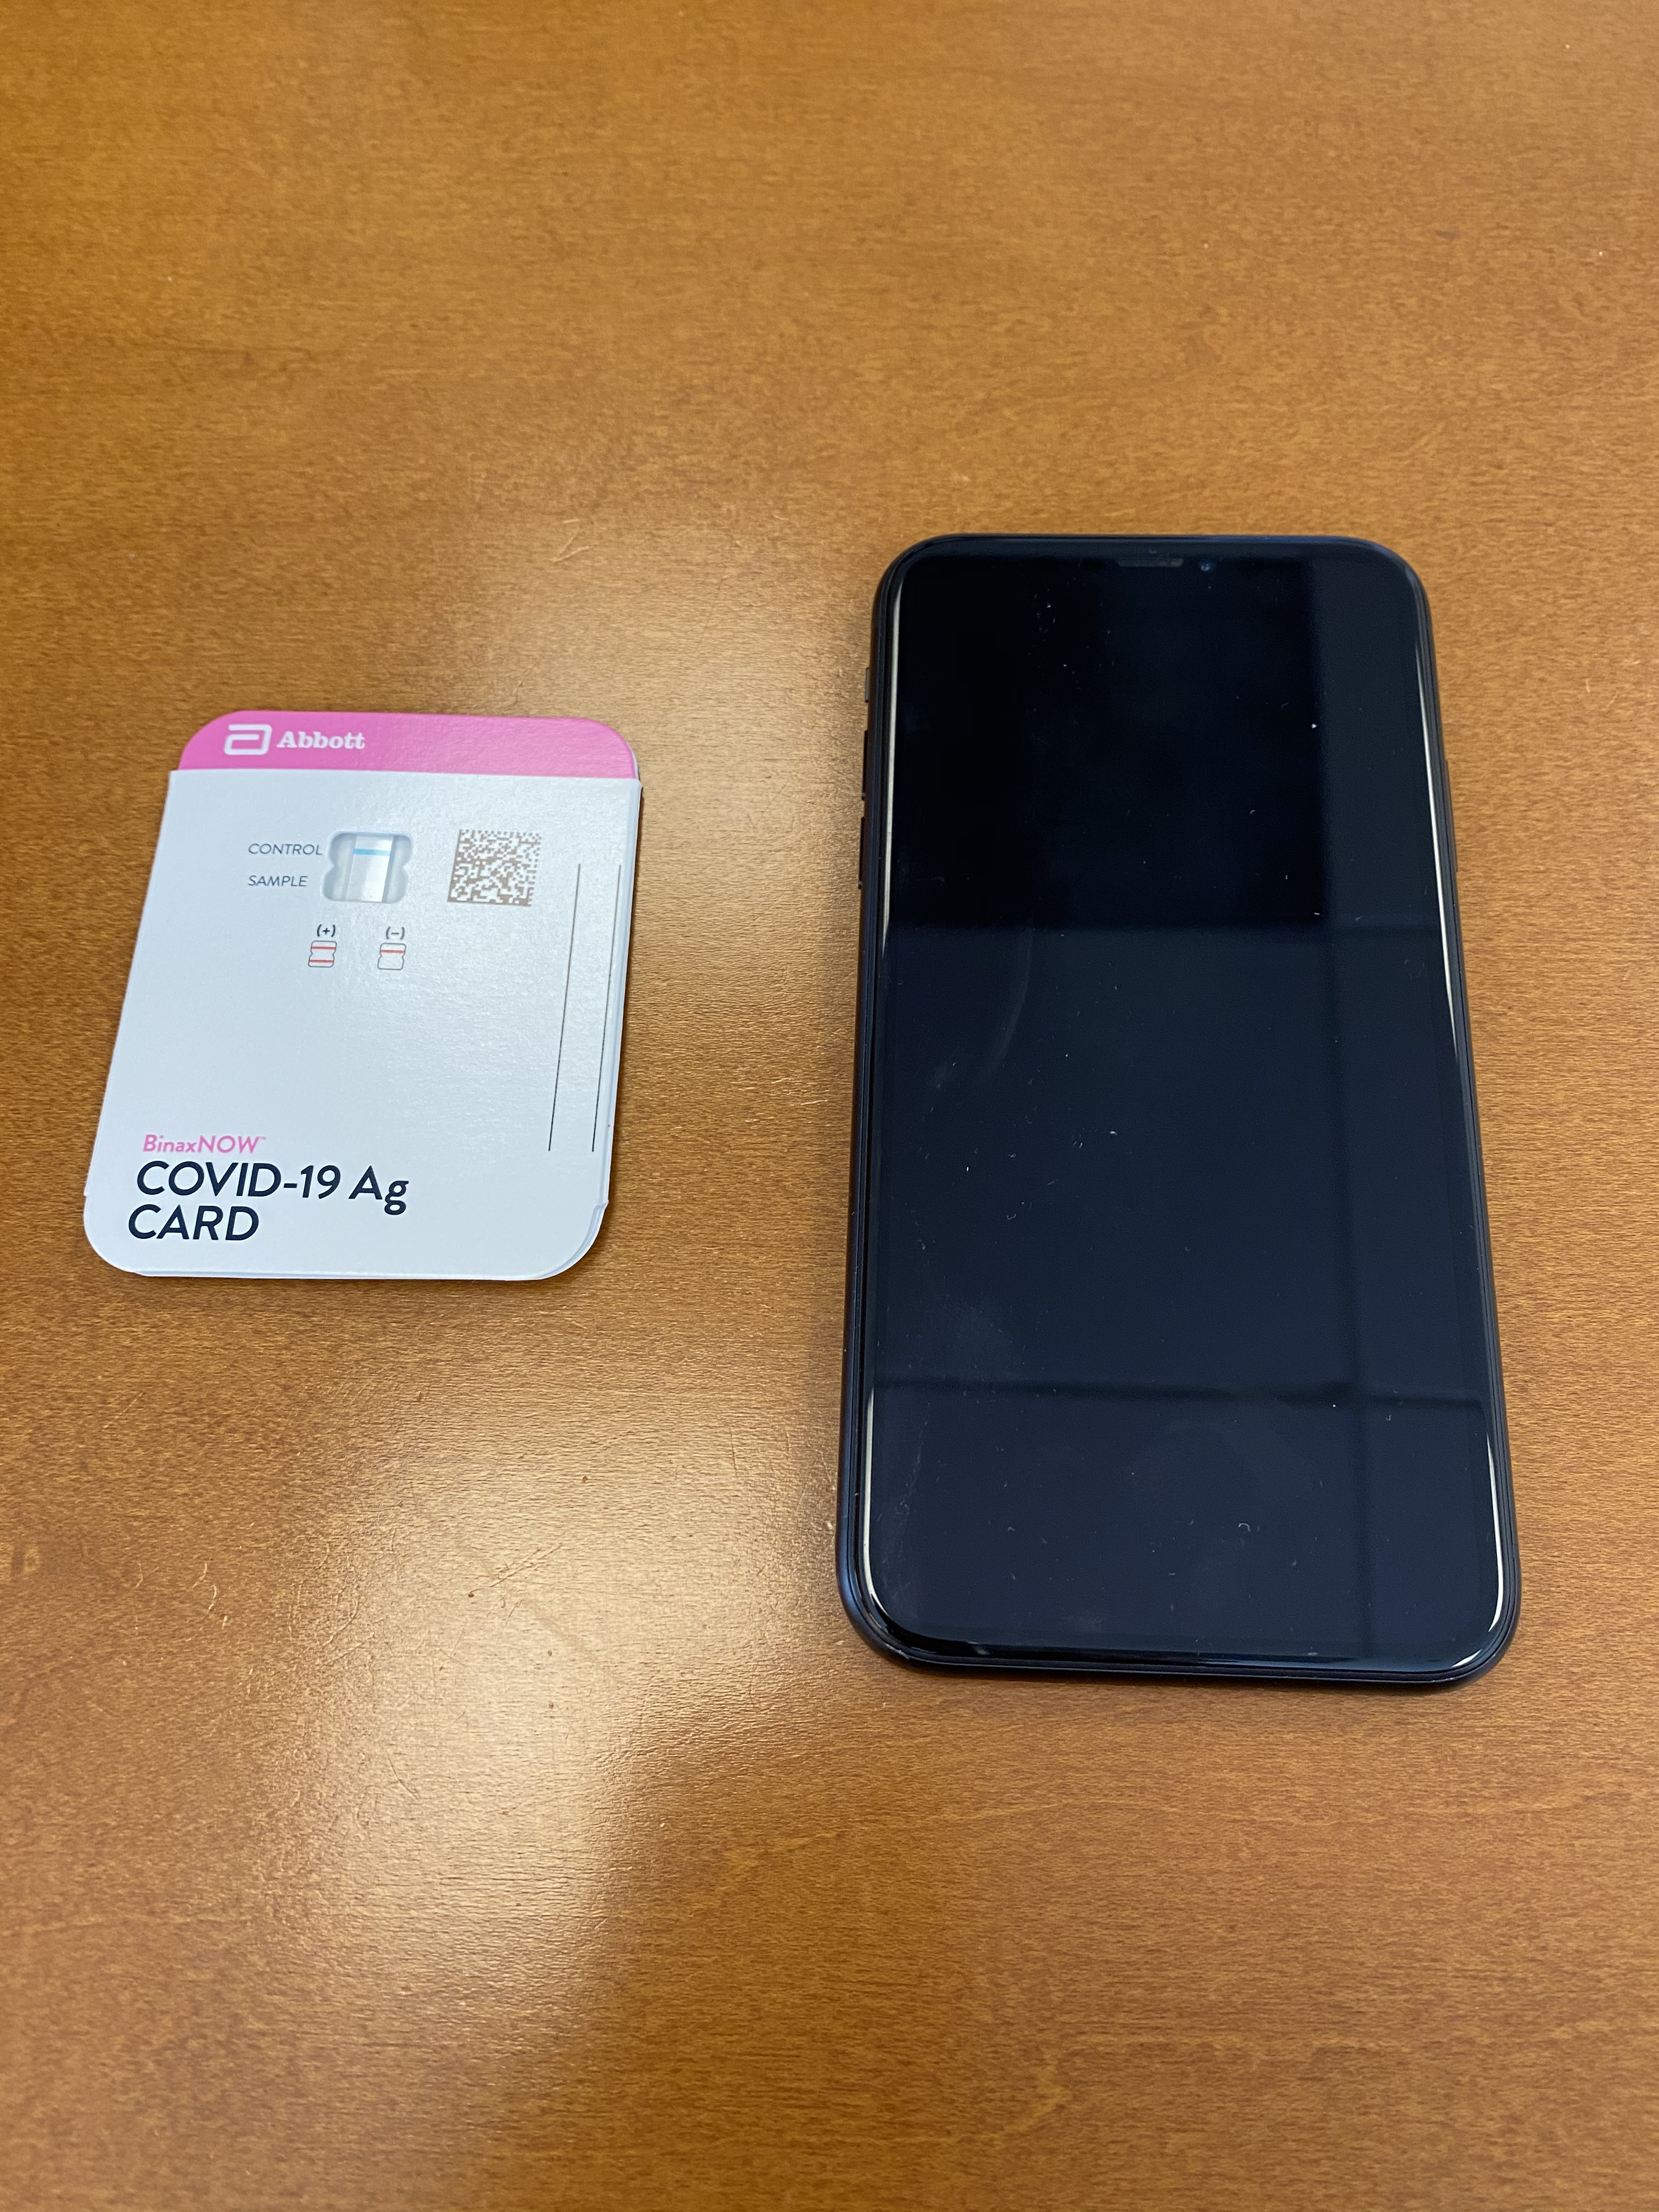binax: (78, 705, 655, 1298)
